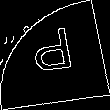P_S: (29, 27, 81, 83)
